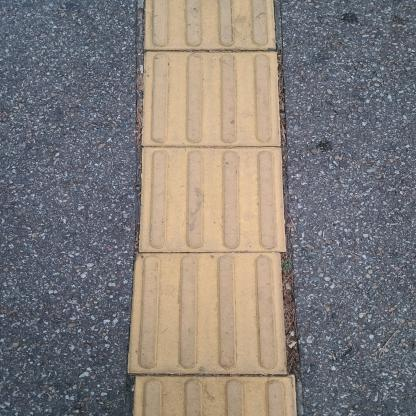podotacti: (121, 0, 303, 415)
